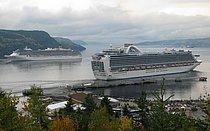Ship: (89, 40, 206, 82), (3, 43, 85, 68)
